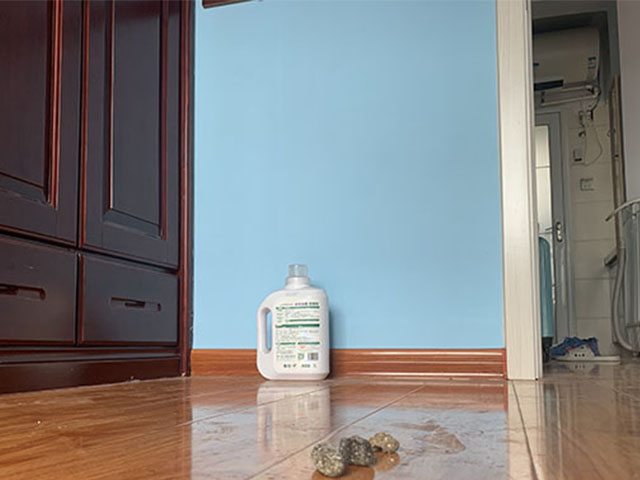cabinet: (1, 1, 194, 394)
feces: (309, 431, 401, 477)
slippers: (553, 341, 622, 361)
